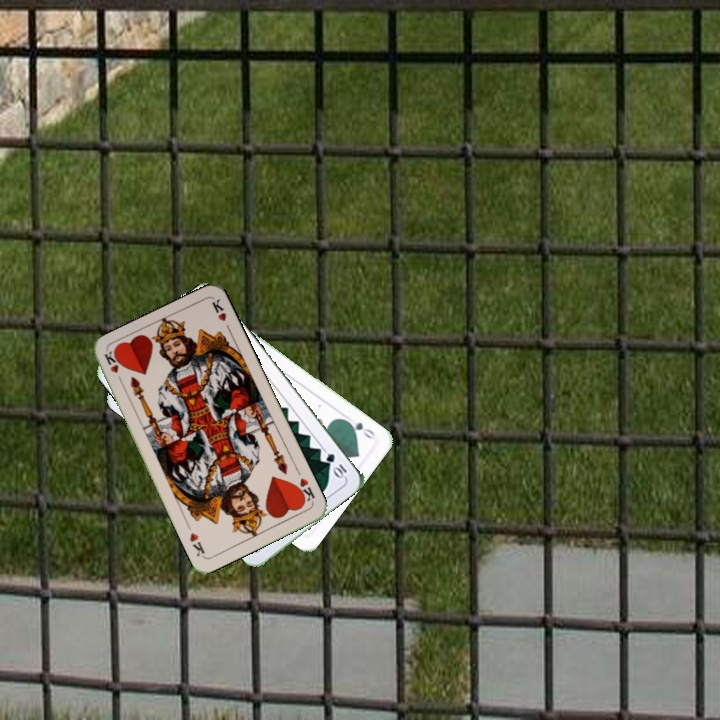G10: (322, 449, 349, 481)
GO: (341, 416, 378, 442)
HK: (100, 348, 126, 387), (292, 474, 317, 506)
